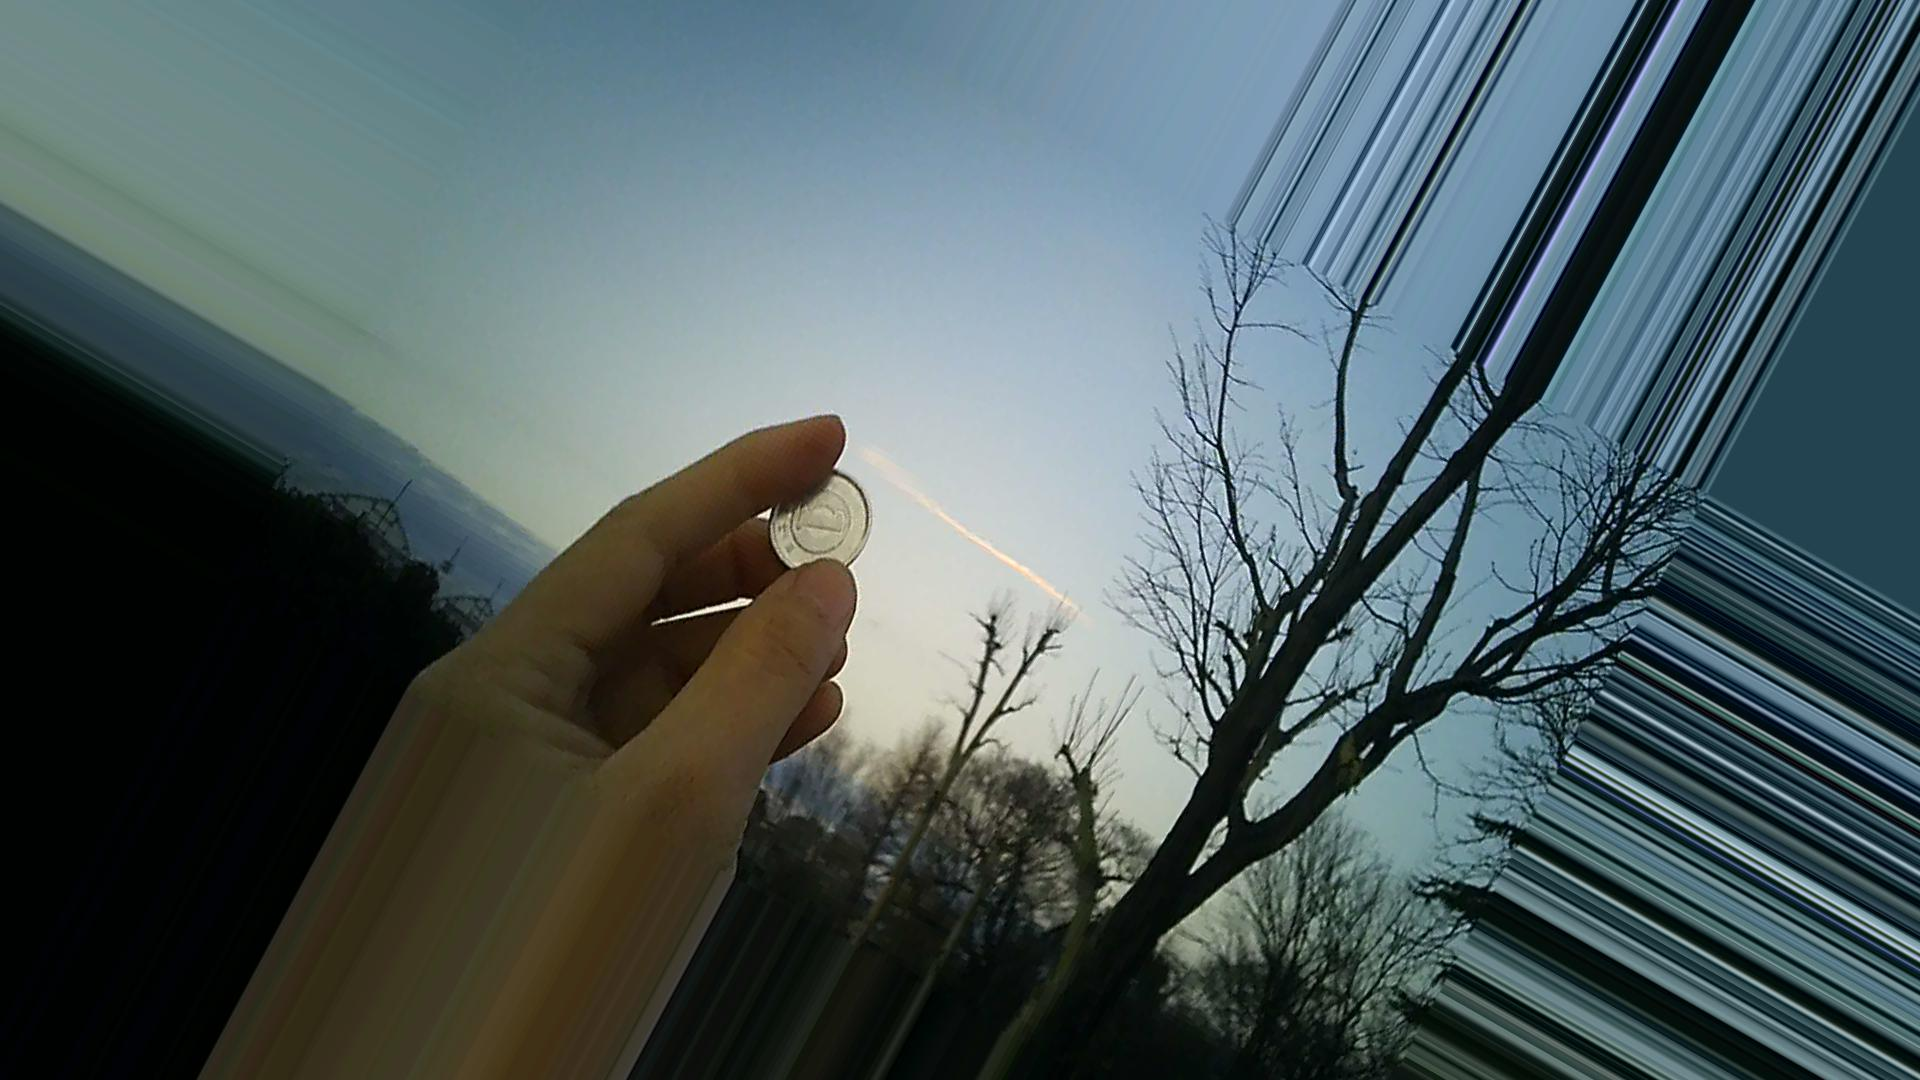1 Yen: (746, 462, 895, 605)
